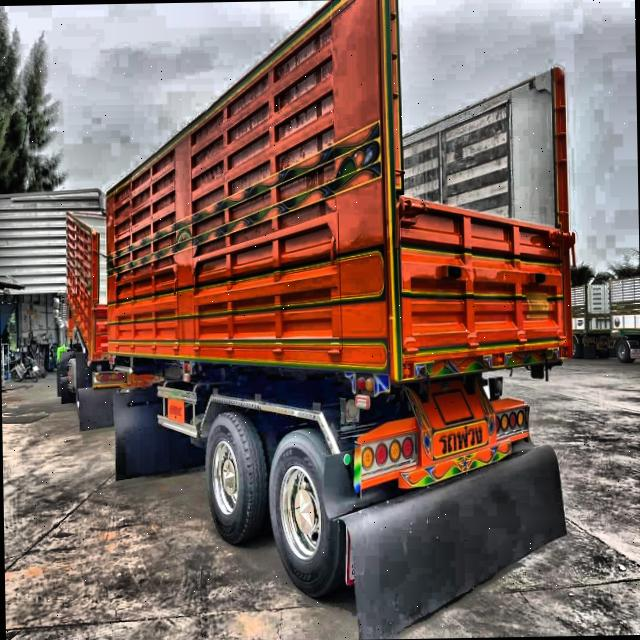trailer: (39, 0, 598, 613)
